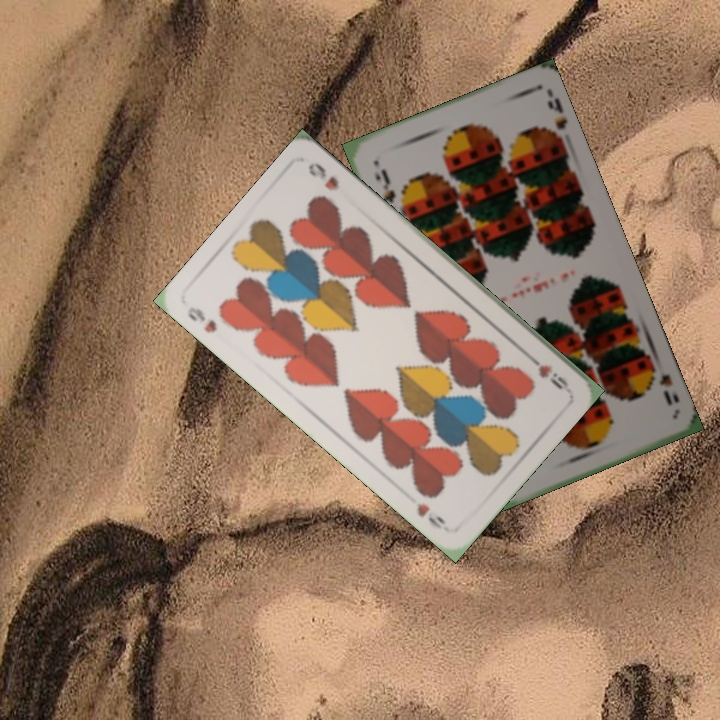H9: (522, 350, 572, 393), (183, 302, 220, 336)
S9: (642, 358, 675, 408), (371, 164, 398, 206)
